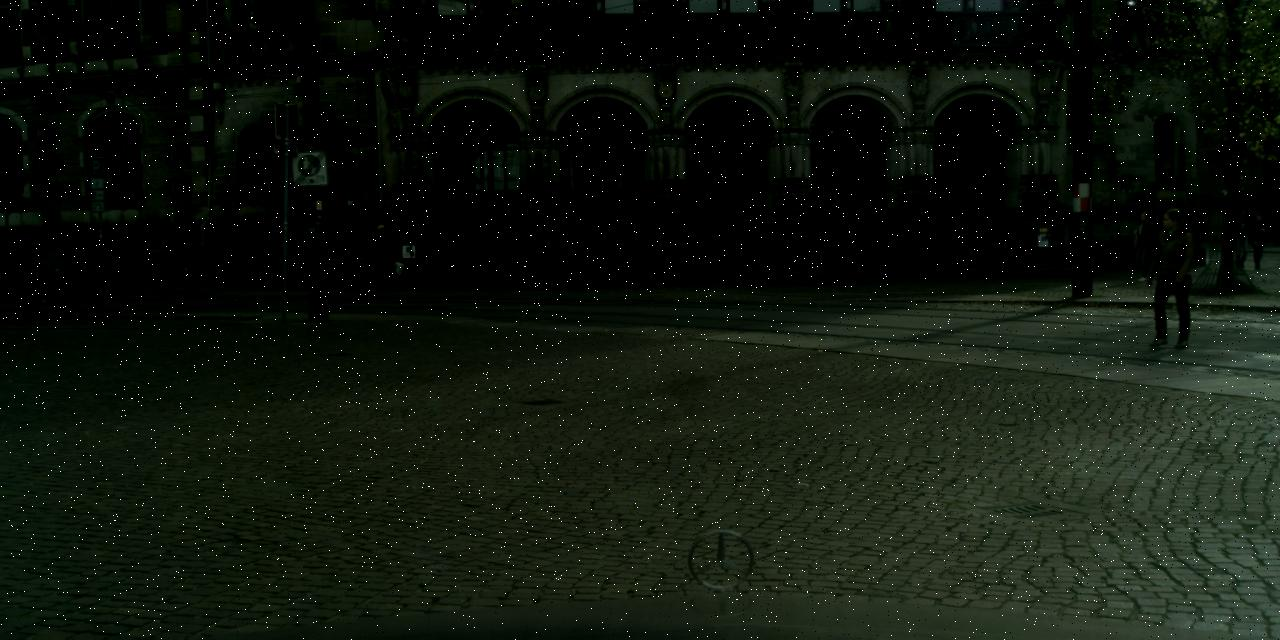ped: (1142, 208, 1198, 346), (1129, 211, 1157, 280), (372, 223, 398, 289), (1229, 208, 1253, 268), (1246, 214, 1268, 269)
